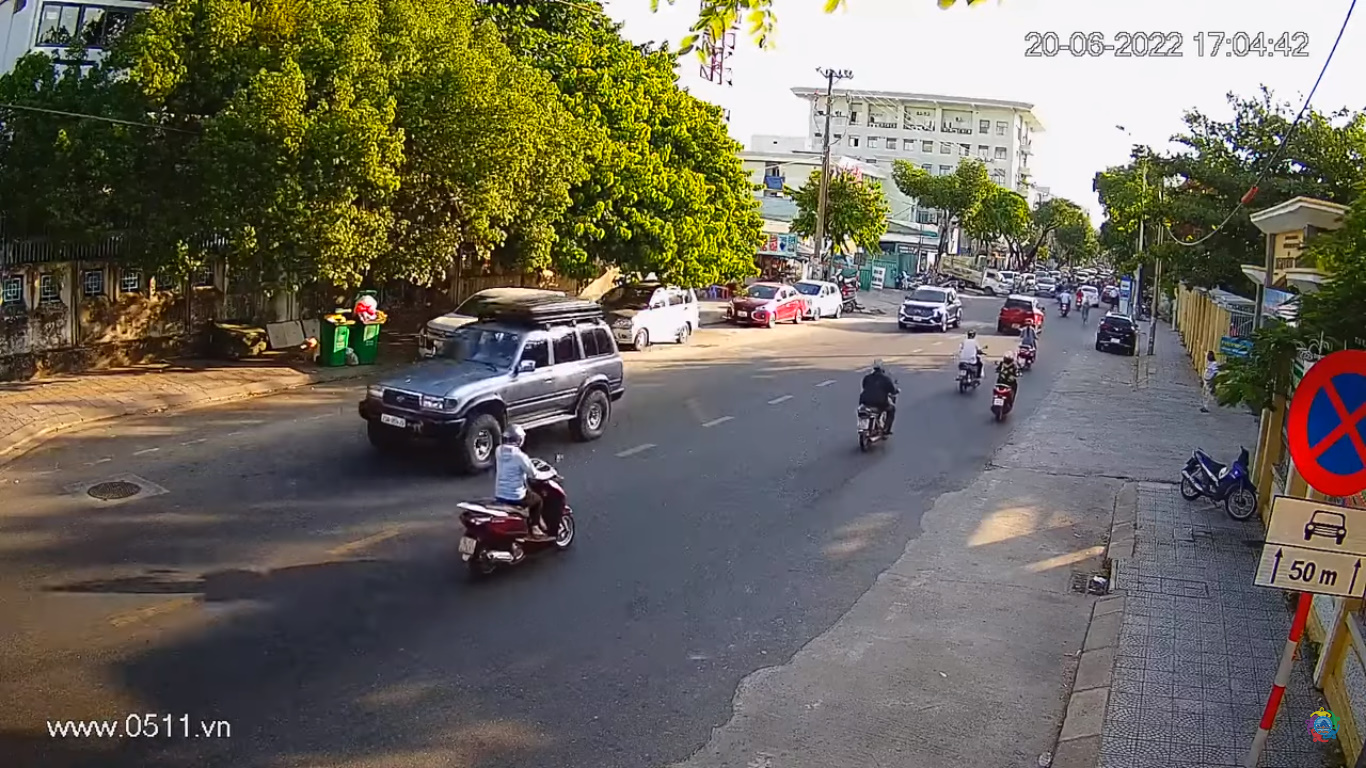car: (357, 324, 630, 460)
